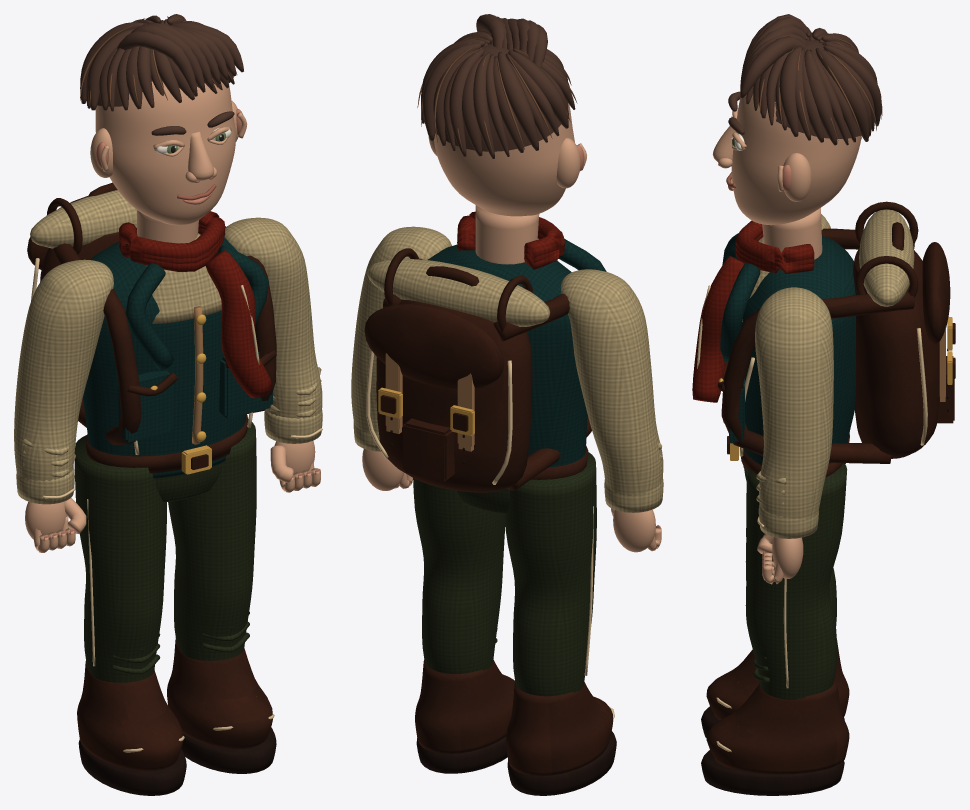
Rendered from traveller.glb.
The picture shows the model from 3 angles, left to right: view 1: azimuth 30°, elevation 25°; view 2: azimuth 150°, elevation 25°; view 3: azimuth 270°, elevation 25°; orthographic projection.
Parts seen in each view (by area): view 1: GEO-traveller-Body-coatDetail, GEO-traveller-LeftLeg-trousers, GEO-traveller-LeftArm-shirt, GEO-traveller-RightLeg-trousers, GEO-traveller-Head-skinDetail, GEO-traveller-Head-hairDetail, GEO-traveller-RightArm-shirt, GEO-traveller-Body-leatherDetail, GEO-traveller-Body-scarf, GEO-traveller-LeftLeg-leatherDetail, GEO-traveller-RightLeg-leatherDetail, GEO-traveller-Body-shirt (+9 smaller); view 2: GEO-traveller-Body-leatherDetail, GEO-traveller-LeftLeg-trousers, GEO-traveller-LeftArm-shirt, GEO-traveller-Head-hairDetail, GEO-traveller-RightLeg-trousers, GEO-traveller-Body-coatDetail, GEO-traveller-Head-skinDetail, GEO-traveller-LeftLeg-leatherDetail, GEO-traveller-RightLeg-leatherDetail, GEO-traveller-Body-shirt, GEO-traveller-RightArm-shirt, GEO-traveller-Body-skinDetail (+10 smaller); view 3: GEO-traveller-Body-leatherDetail, GEO-traveller-RightArm-shirt, GEO-traveller-RightLeg-trousers, GEO-traveller-Head-hairDetail, GEO-traveller-Head-skinDetail, GEO-traveller-Body-coatDetail, GEO-traveller-RightLeg-leatherDetail, GEO-traveller-Body-scarf, GEO-traveller-Body-shirt, GEO-traveller-RightLeg-darkwood, GEO-traveller-LeftLeg-leatherDetail, GEO-traveller-RightArm-skinDetail (+4 smaller).
Boxes of the visible parts, x1,y1,x2,y2 form: GEO-traveller-Body-coatDetail: (82, 237, 272, 478); GEO-traveller-LeftLeg-trousers: (74, 435, 166, 682); GEO-traveller-LeftArm-shirt: (14, 259, 113, 504); GEO-traveller-RightLeg-trousers: (168, 422, 256, 660); GEO-traveller-Head-skinDetail: (90, 81, 247, 225); GEO-traveller-Head-hairDetail: (80, 14, 243, 135); GEO-traveller-RightArm-shirt: (224, 217, 322, 443); GEO-traveller-Body-leatherDetail: (27, 182, 276, 473); GEO-traveller-Body-scarf: (118, 211, 272, 398); GEO-traveller-LeftLeg-leatherDetail: (77, 661, 183, 771); GEO-traveller-RightLeg-leatherDetail: (167, 638, 272, 749); GEO-traveller-Body-shirt: (30, 190, 221, 323); GEO-traveller-Body-leatherDetail: (364, 248, 591, 492); GEO-traveller-LeftLeg-trousers: (504, 452, 596, 696); GEO-traveller-LeftArm-shirt: (560, 269, 663, 512); GEO-traveller-Head-hairDetail: (421, 14, 575, 158); GEO-traveller-RightLeg-trousers: (413, 478, 505, 673); GEO-traveller-Body-coatDetail: (428, 239, 606, 489); GEO-traveller-Head-skinDetail: (428, 103, 586, 216); GEO-traveller-LeftLeg-leatherDetail: (506, 681, 613, 776); GEO-traveller-RightLeg-leatherDetail: (415, 659, 514, 753); GEO-traveller-Body-shirt: (367, 238, 557, 326); GEO-traveller-RightArm-shirt: (351, 226, 451, 451); GEO-traveller-Body-skinDetail: (475, 205, 539, 264); GEO-traveller-Body-leatherDetail: (717, 201, 955, 477); GEO-traveller-RightArm-shirt: (755, 287, 833, 538); GEO-traveller-RightLeg-trousers: (745, 463, 847, 699); GEO-traveller-Head-hairDetail: (728, 14, 881, 145); GEO-traveller-Head-skinDetail: (712, 93, 861, 225); GEO-traveller-Body-coatDetail: (720, 233, 855, 475); GEO-traveller-RightLeg-leatherDetail: (706, 678, 849, 774); GEO-traveller-Body-scarf: (692, 220, 814, 402); GEO-traveller-Body-shirt: (742, 209, 914, 321); GEO-traveller-RightLeg-darkwood: (701, 750, 844, 795); GEO-traveller-LeftLeg-leatherDetail: (706, 638, 849, 719); GEO-traveller-RightArm-skinDetail: (757, 534, 803, 584).
Bounding box in the file's own units: 0.964 × 2.26 × 0.7396.
Materials: 17 (6 with a texture image).
